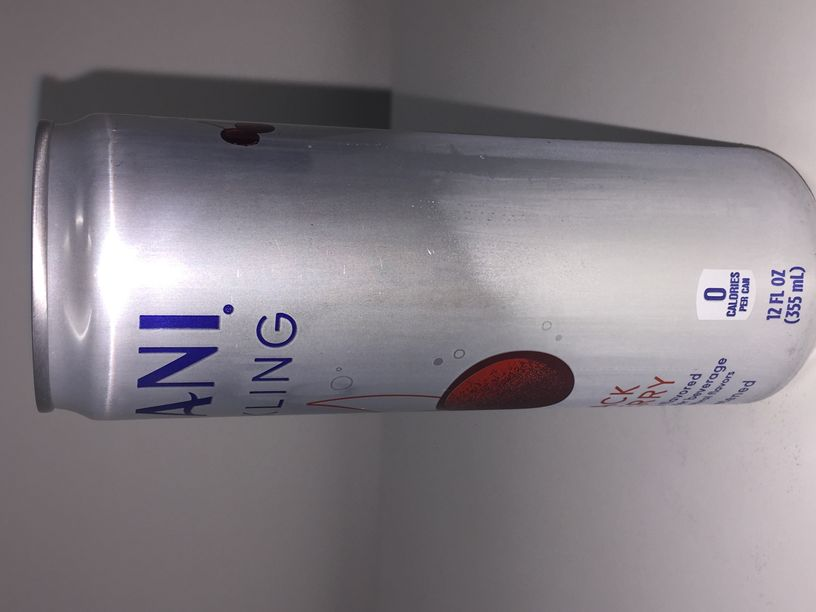blackcherry: (30, 110, 816, 423)
